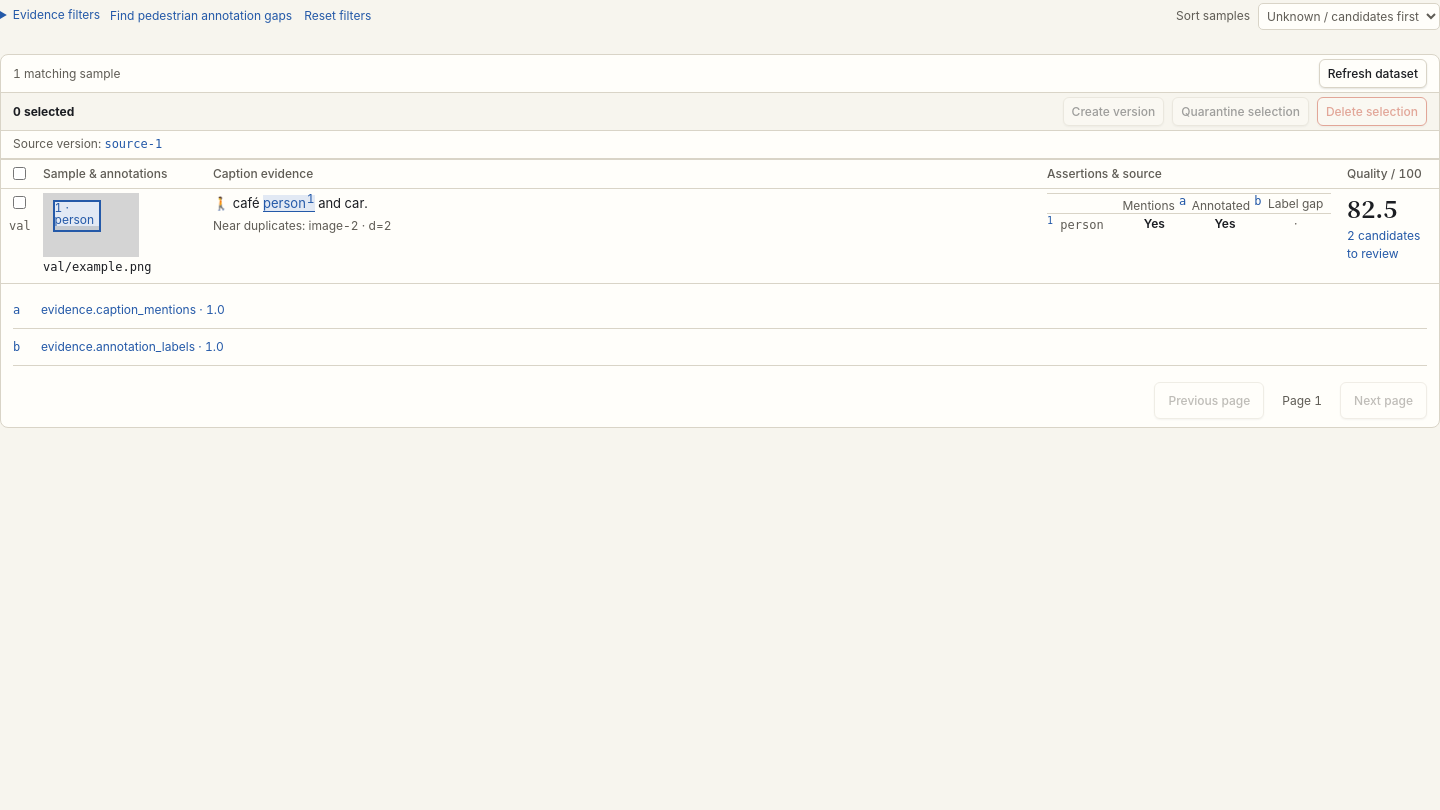
Test: does not prepare or execute delete_files during composition
Click the checkbox named "Select val/example.png" at coordinates (20, 203), box [13,196,26,209]
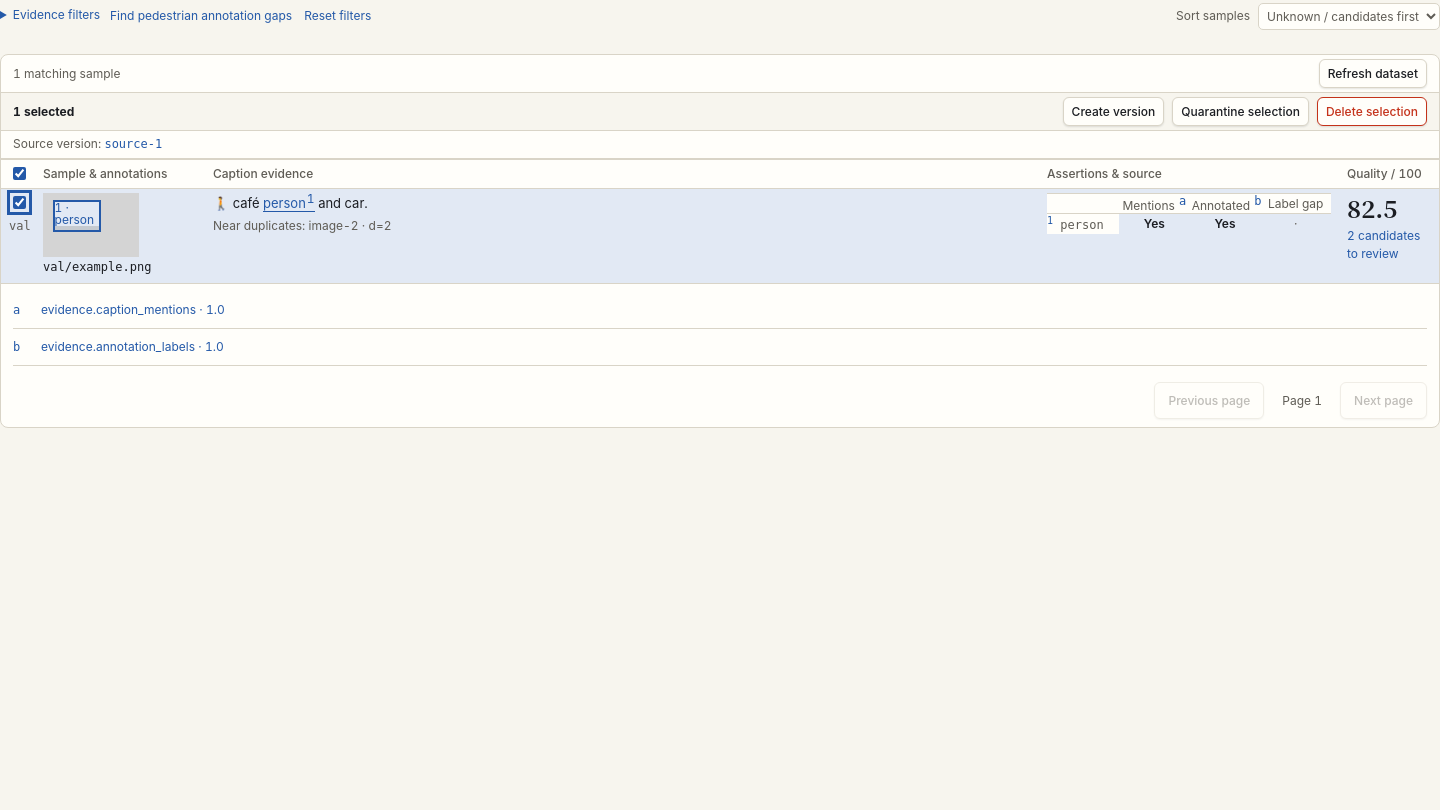
Click the button "Delete selection" at coordinates (1372, 112), box [1317,97,1427,126]
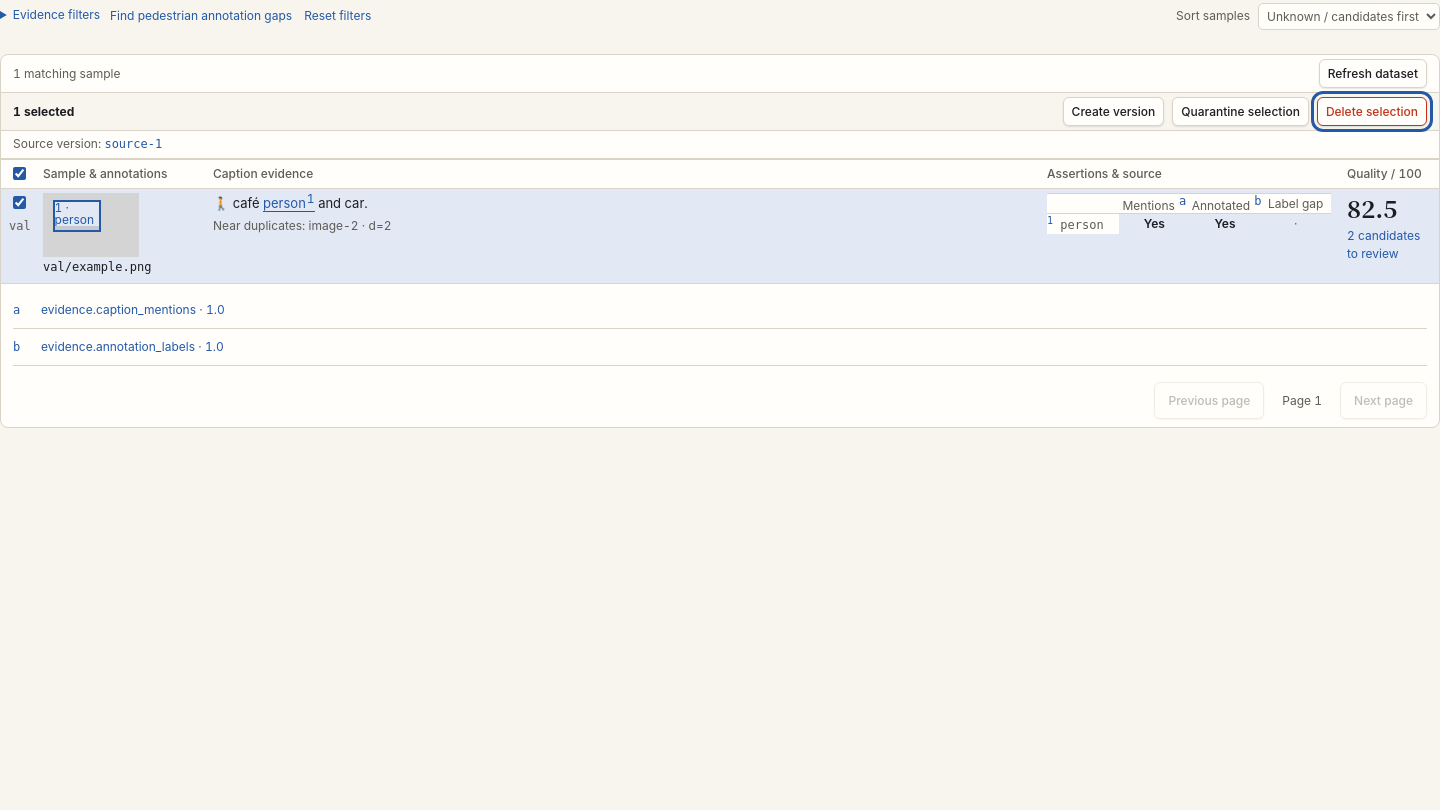
Press Enter in the button "Delete selection", box [1317,97,1427,126]
Press Space in the button "Delete selection", box [1317,97,1427,126]
Click the button "Delete selection" at coordinates (1372, 112), box [1317,97,1427,126]
(page scrolled)
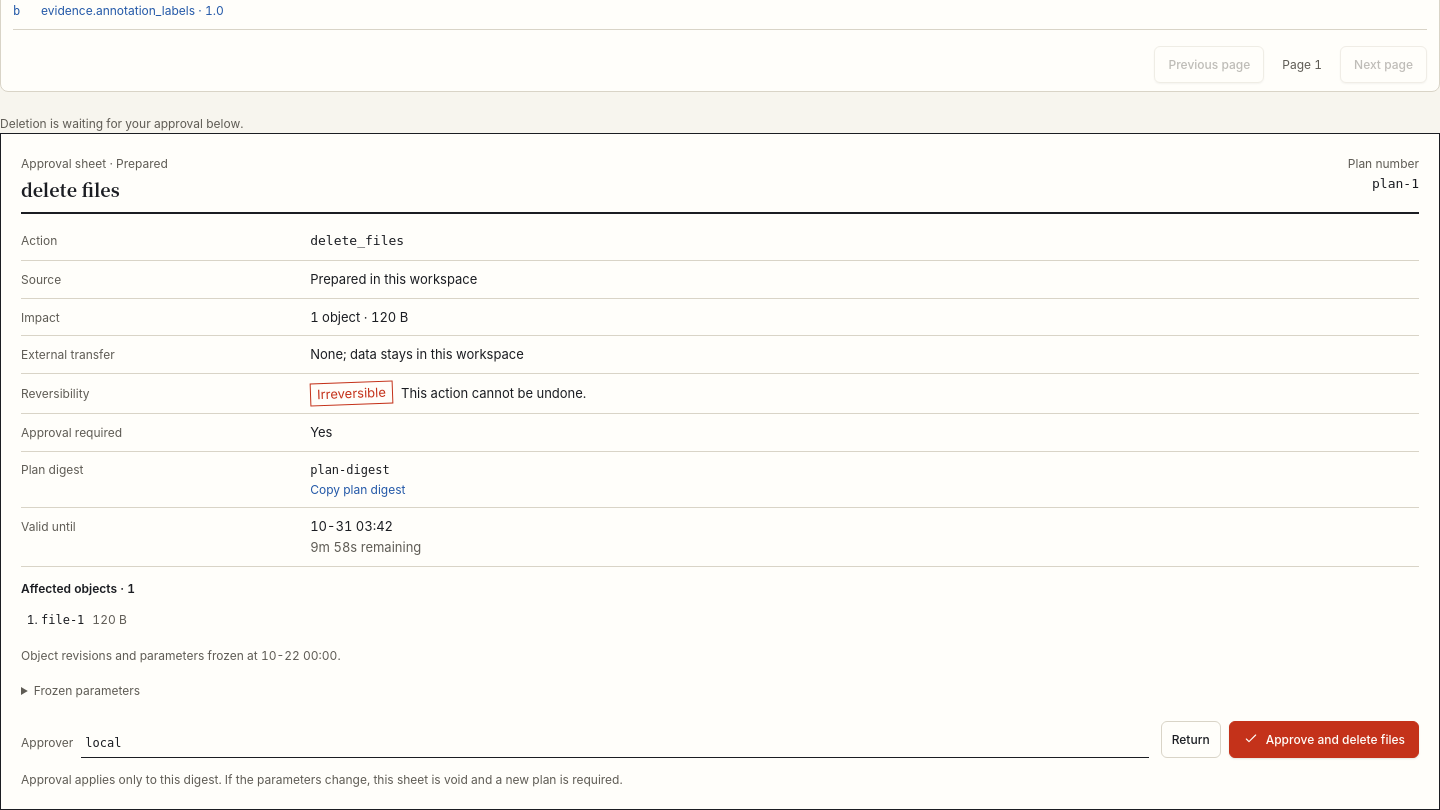
Expected: the button "Approve and delete files" is shown, [1229,721,1419,758]
